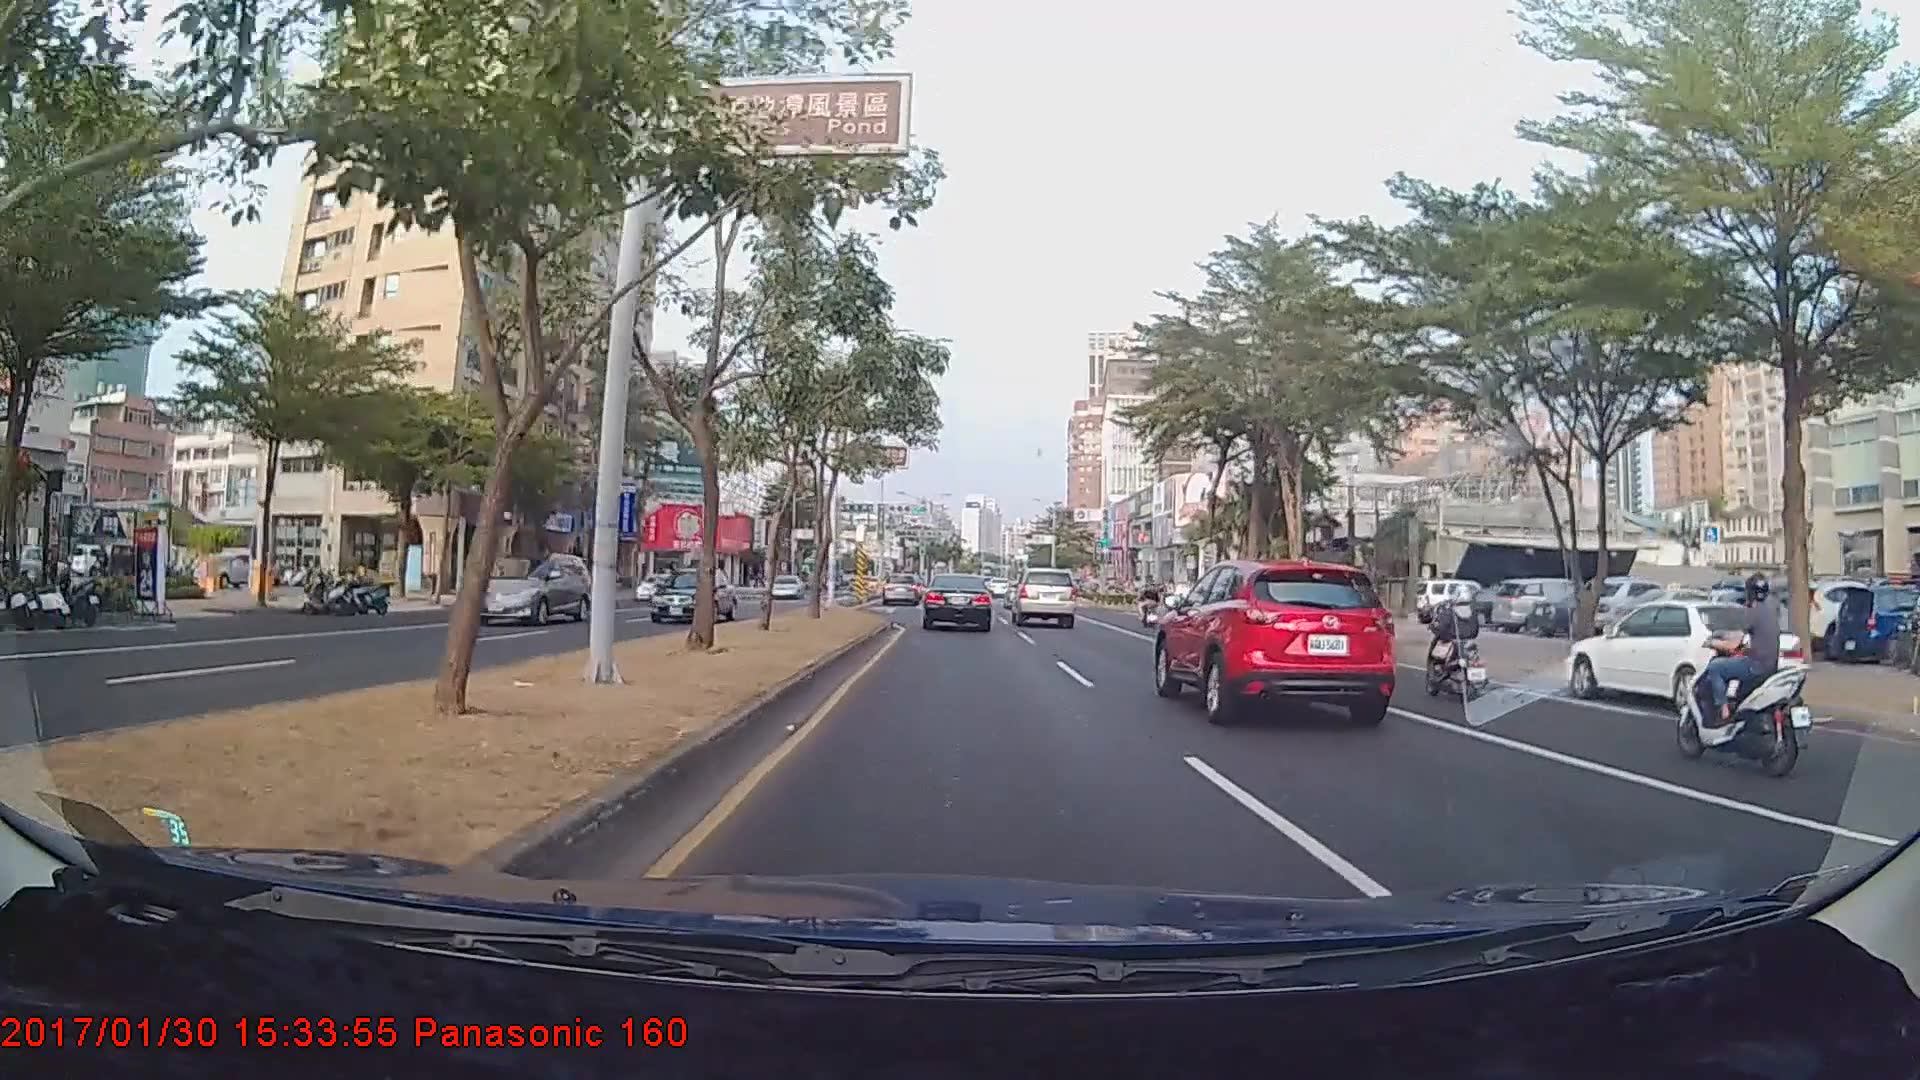rider: (1667, 555, 1821, 775), (1410, 578, 1497, 703), (1139, 570, 1163, 629)
vehicle: (1151, 556, 1396, 729), (1563, 597, 1809, 714), (469, 549, 591, 625), (1488, 574, 1600, 634), (647, 564, 736, 624), (921, 572, 993, 632), (1011, 567, 1077, 629), (881, 571, 921, 606), (633, 573, 682, 601), (770, 574, 801, 600)
